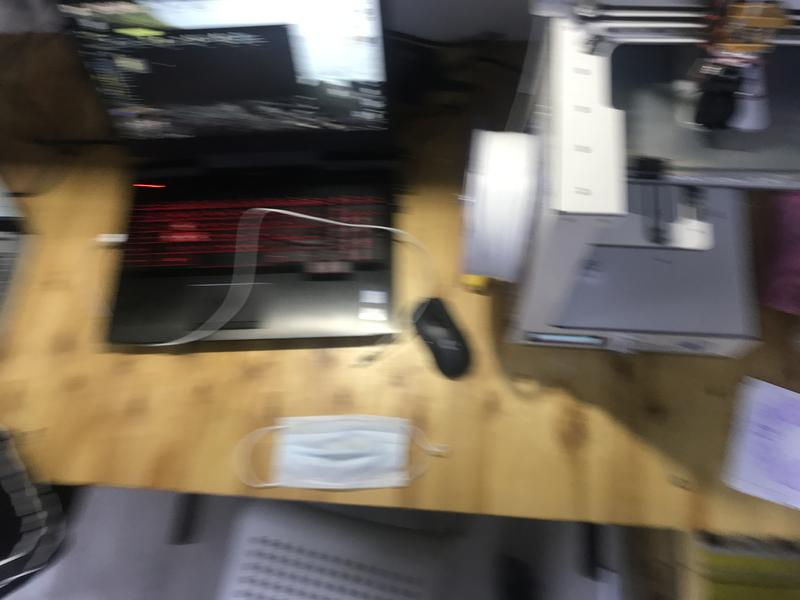medical_mask: (238, 416, 445, 487)
